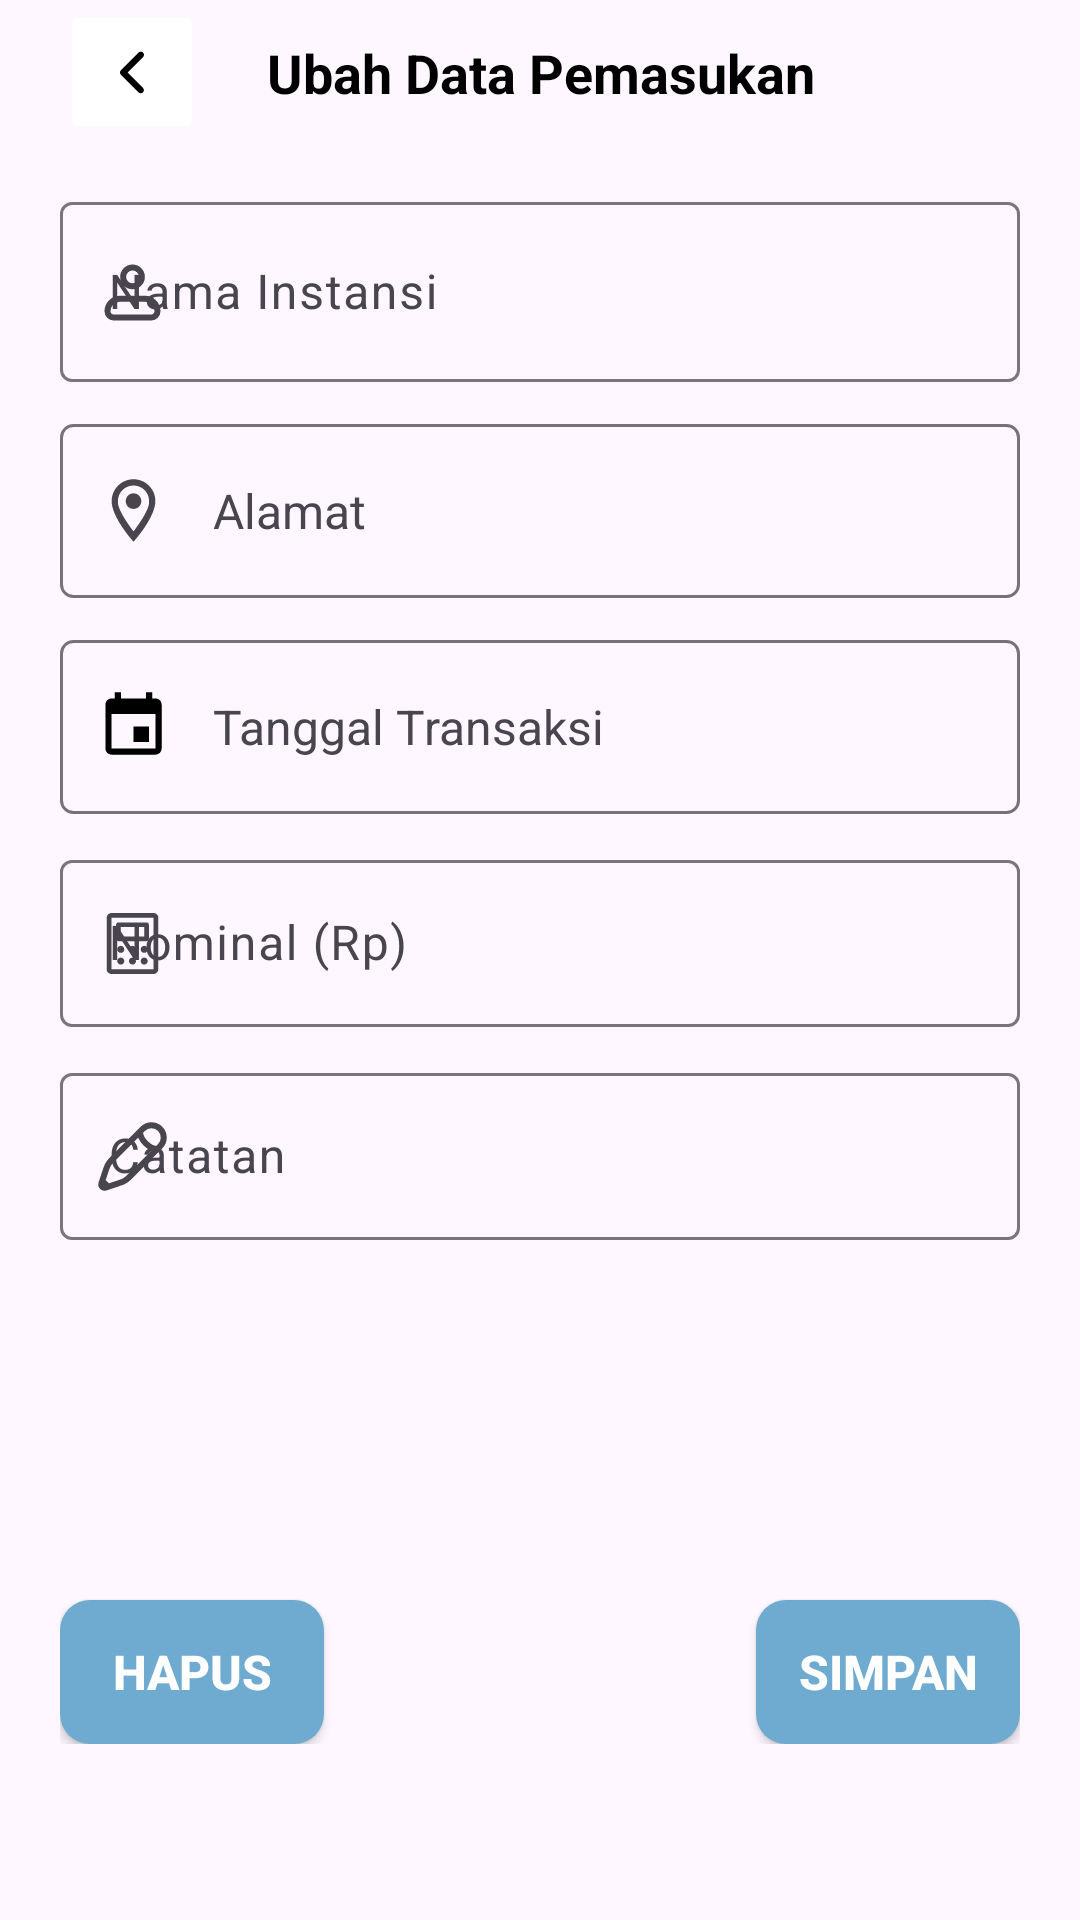

Icon bounding boxes for this 1080w x 1920h phone screenshot, format [x1,y1,x2,y2]:
back: [120,51,144,94]
